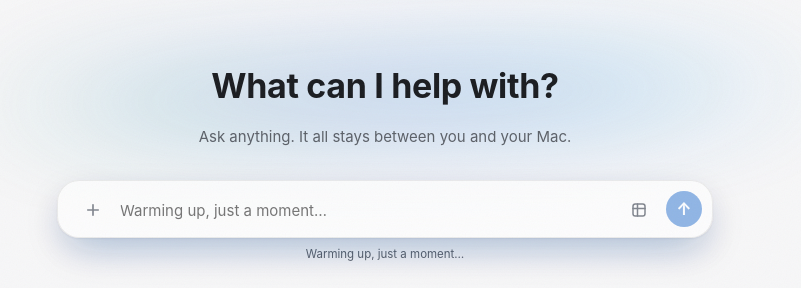
Scenario: the model quick picker while a model is loading › keeps every option usable mid-load, so picking another model redirects the load
Step 1. Click the button named "Switch model" → {"x": 639, "y": 210}, box [622, 193, 656, 227]
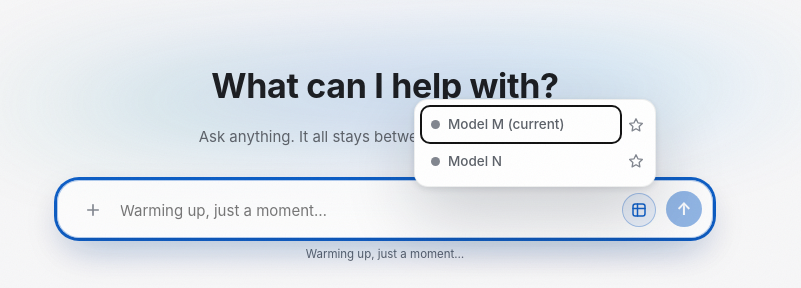
Result: the option "Model M (current)" is enabled at [421, 106, 621, 143]
Result: the option "Model N" is enabled
Step 2. Click the option "Model N" → {"x": 521, "y": 161}, box [421, 143, 621, 180]
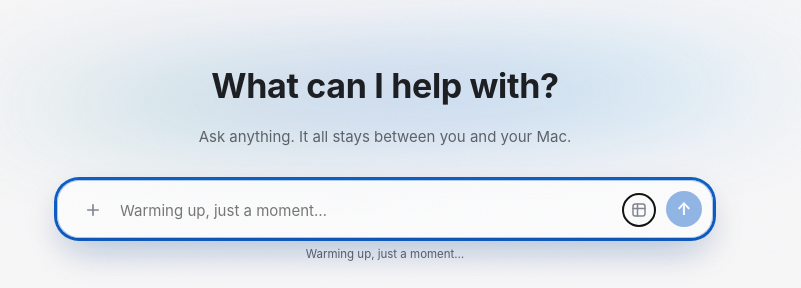
Result: the option is gone
